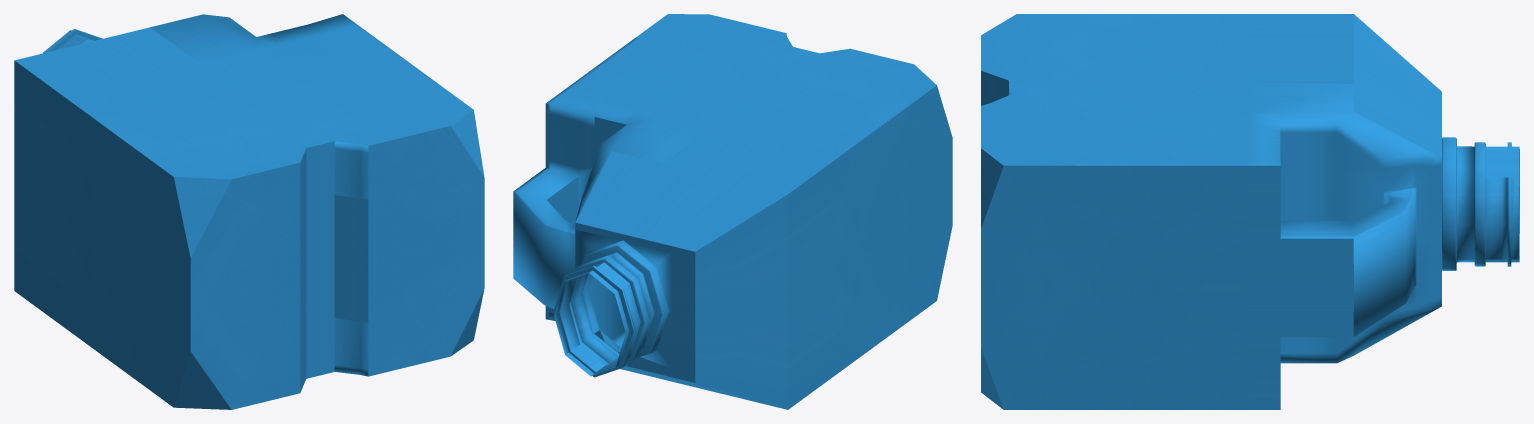
File: plastic_container.dae
3 renders of one model, left to right at view 1: azimuth 30°, elevation 25°; view 2: azimuth 150°, elevation 25°; view 3: azimuth 270°, elevation 25°, orthographic. The views are drawn at different scales.
Parts seen in each view (by area): view 1: Cube.009; view 2: Cube.009; view 3: Cube.009.
Boxes of the visible parts, left/top/right/bottom form: Cube.009: left=14, top=14, right=484, bottom=409; Cube.009: left=513, top=14, right=952, bottom=409; Cube.009: left=981, top=14, right=1519, bottom=409.
Size of the model in its own units: 0.2 by 0.3 by 0.15.
1 material, 1 textured.
